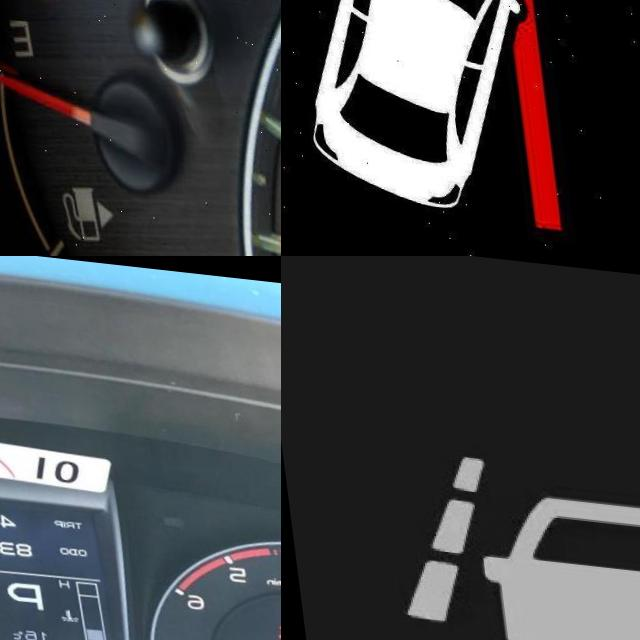Seat Belt: (266, 610, 281, 631)
